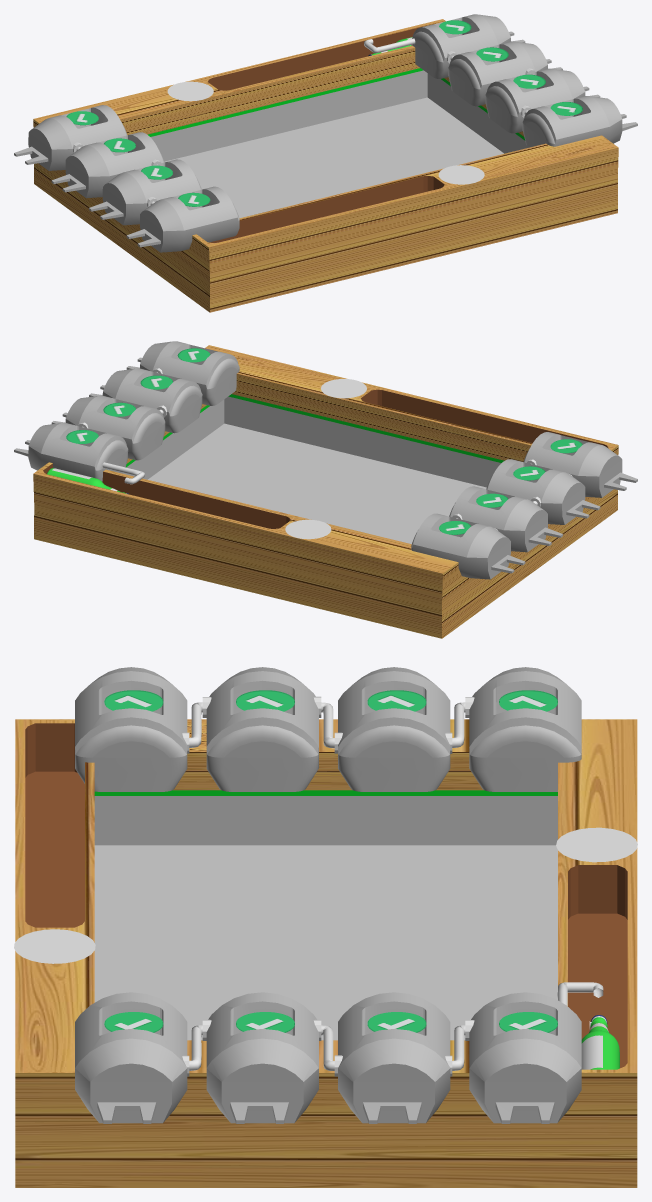
The model's file is tablemi.fbx.
The picture shows the model from 3 angles, top to bottom: view 1: azimuth 30°, elevation 25°; view 2: azimuth 150°, elevation 25°; view 3: azimuth 270°, elevation 25°; orthographic projection. The views are drawn at different scales.
Visible parts, largest first — view 1: Cube, Object005.001, Object005.013, Object005.011, Object005.012, Object005.010, Object005.015, Object005.016, Object005.014, Shape062.003, Circle.001, Circle.014; view 2: Cube, Object005.014, Object005.010, Object005.011, Object005.013, Object005.012, Object005.001, Object005.015, Object005.016, Shape062.003, Circle.014, Circle.001 (+1 smaller); view 3: Cube, Object005.016, Object005.015, Object005.013, Object005.010, Object005.011, Object005.012, Object005.001, Object005.014, Shape062.003, Circle.001, Circle.014 (+9 smaller).
Part boxes in pixels (box(x1,y1,x2,y2)): Cube: box(33, 19, 618, 312); Object005.001: box(140, 186, 239, 252); Object005.013: box(522, 96, 622, 147); Object005.011: box(448, 41, 547, 106); Object005.012: box(485, 68, 585, 133); Object005.010: box(411, 14, 510, 78); Object005.015: box(65, 132, 164, 198); Object005.016: box(102, 159, 201, 225); Object005.014: box(28, 105, 127, 170); Shape062.003: box(14, 31, 637, 247); Circle.001: box(438, 165, 484, 184); Circle.014: box(167, 81, 213, 101); Cube: box(33, 345, 618, 638); Object005.014: box(411, 513, 510, 579); Object005.010: box(28, 422, 128, 481); Object005.011: box(65, 395, 165, 460); Object005.013: box(140, 341, 239, 405); Object005.012: box(102, 368, 202, 433); Object005.001: box(523, 432, 622, 497); Object005.015: box(449, 486, 547, 552); Object005.016: box(486, 459, 585, 524); Shape062.003: box(14, 357, 637, 573); Circle.014: box(285, 519, 331, 539); Circle.001: box(321, 379, 366, 398); Cube: box(15, 719, 637, 1187); Object005.016: box(206, 667, 318, 791); Object005.015: box(338, 667, 450, 791); Object005.013: box(75, 992, 187, 1123); Object005.010: box(469, 992, 581, 1123); Object005.011: box(338, 992, 450, 1123); Object005.012: box(206, 992, 318, 1123); Object005.001: box(75, 667, 187, 791); Object005.014: box(469, 667, 581, 791); Shape062.003: box(97, 1102, 554, 1123); Circle.001: box(14, 929, 95, 963); Circle.014: box(556, 827, 637, 862).
Bounding box in the file's own units: 2512 × 444 × 1541.
